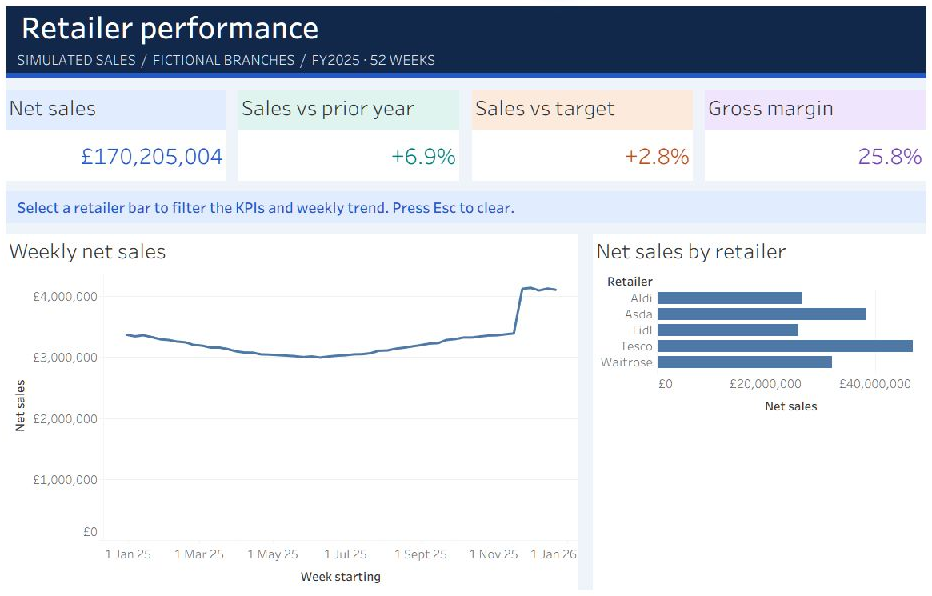

This screenshot's page, from the dashboard's own definition file:
{"tool":"tableau","page":{"name":"Retailer performance","canvas":[1150,730],"ordinal":0},"visuals":[{"type":"text","box":[16.1,13.1,1117.8,48.2]},{"type":"text","box":[16.1,61.3,1117.8,31.4]},{"type":"text","box":[16.1,92.7,1117.8,5.8]},{"type":"worksheet","title":"Net sales","mark":"Text","box":[16.1,113.2,268.2,108]},{"type":"worksheet","title":"Sales vs prior year","mark":"Text","box":[299.3,113.2,268.2,108]},{"type":"worksheet","title":"Sales vs target","mark":"Text","box":[582.5,113.2,268.2,108]},{"type":"worksheet","title":"Gross margin","mark":"Text","box":[865.7,113.2,268.2,108]},{"type":"text","box":[16.1,233.6,1117.8,38]},{"type":"worksheet","title":"Weekly net sales","mark":"Line","rows":["NetSales"],"cols":["week"],"box":[16.1,284.7,695.8,425.6]},{"type":"worksheet","title":"Net sales by retailer","mark":"Bar","rows":["retailer"],"cols":["NetSales"],"box":[729.1,284.7,404.8,425.6]}]}

Visuals, with their boxes in screenshot pixels (x1, y1, x2, y2), scaled from the page's 1150x730 canvas onto the 932x596 screenshot:
text: l=13, t=11, r=919, b=50
text: l=13, t=50, r=919, b=76
text: l=13, t=76, r=919, b=80
"Net sales" worksheet (Text marks): l=13, t=92, r=230, b=181
"Sales vs prior year" worksheet (Text marks): l=243, t=92, r=460, b=181
"Sales vs target" worksheet (Text marks): l=472, t=92, r=689, b=181
"Gross margin" worksheet (Text marks): l=702, t=92, r=919, b=181
text: l=13, t=191, r=919, b=222
"Weekly net sales" worksheet (Line marks): l=13, t=232, r=577, b=580
"Net sales by retailer" worksheet (Bar marks): l=591, t=232, r=919, b=580
